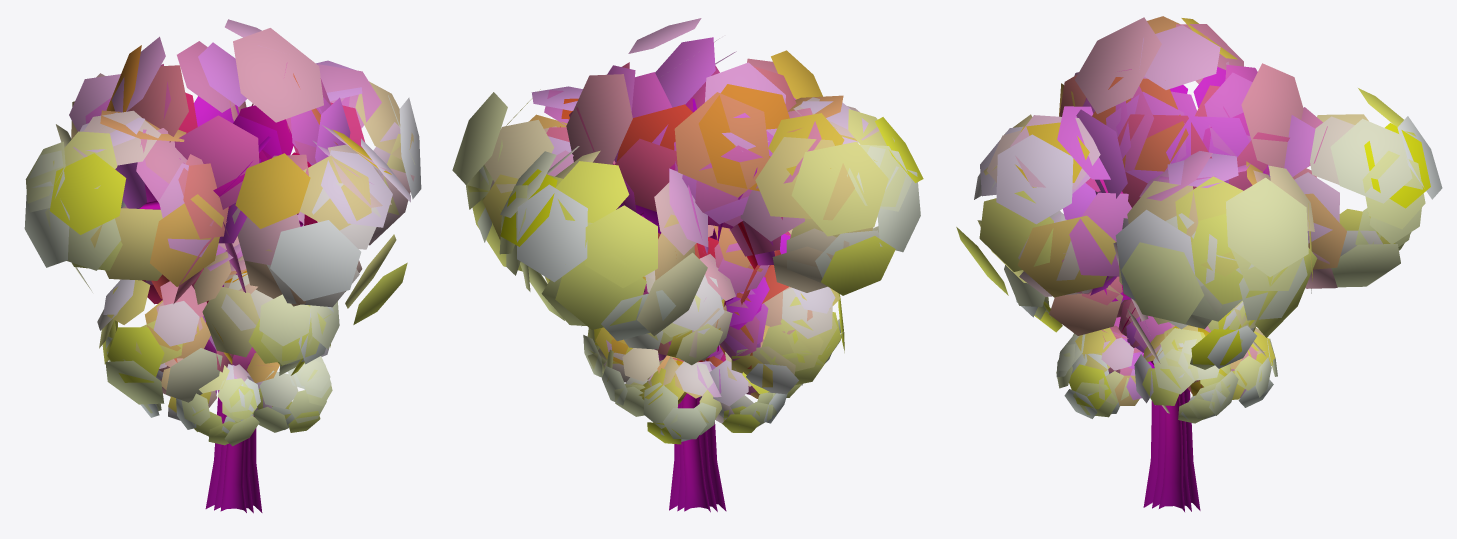
Rendered from tv_broadleaf.glb.
3 views of the same model, side by side, from view 1: azimuth 30°, elevation 25°; view 2: azimuth 150°, elevation 25°; view 3: azimuth 270°, elevation 25° (orthographic).
Parts seen in each view (by area): view 1: tv_broadleaf_v2_lod0, tv_broadleaf_v1_lod0, tv_broadleaf_v0_lod0; view 2: tv_broadleaf_v2_lod0, tv_broadleaf_v1_lod0, tv_broadleaf_v0_lod0; view 3: tv_broadleaf_v2_lod0, tv_broadleaf_v0_lod0, tv_broadleaf_v1_lod0.
Part boxes in pixels (box(x1,y1,x2,y2)): tv_broadleaf_v2_lod0: box(24, 19, 421, 512); tv_broadleaf_v1_lod0: box(97, 200, 362, 513); tv_broadleaf_v0_lod0: box(141, 316, 332, 512); tv_broadleaf_v2_lod0: box(452, 18, 923, 511); tv_broadleaf_v1_lod0: box(544, 225, 844, 511); tv_broadleaf_v0_lod0: box(581, 325, 802, 512); tv_broadleaf_v2_lod0: box(956, 16, 1442, 510); tv_broadleaf_v0_lod0: box(1056, 299, 1277, 511); tv_broadleaf_v1_lod0: box(1004, 210, 1311, 511).
Size of what is drawn, in the model's own units: 14.77 by 16.98 by 15.42.
